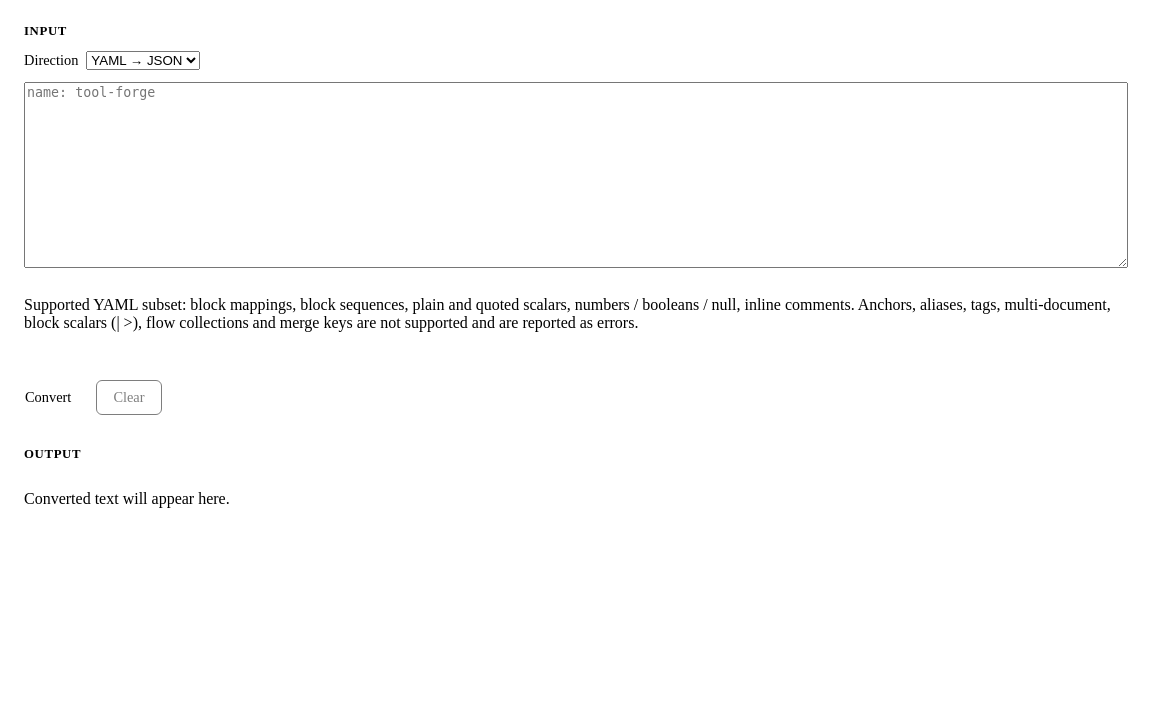
Test: YamlJsonConverterTool › shows an error for unsupported YAML syntax
Type "a: &anchor 1" into the text box named "YAML/JSON input" at point(576, 175), box [24,82,1128,268]
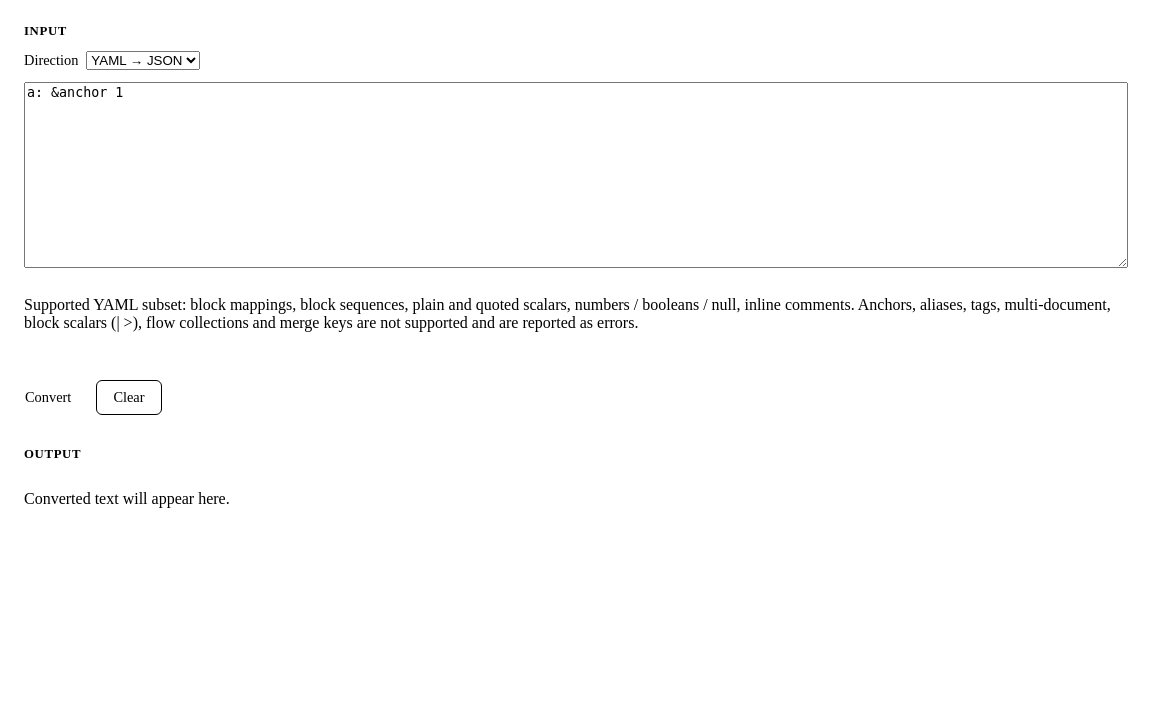
Click the button "Convert" at point(48, 398), box [8,380,88,415]
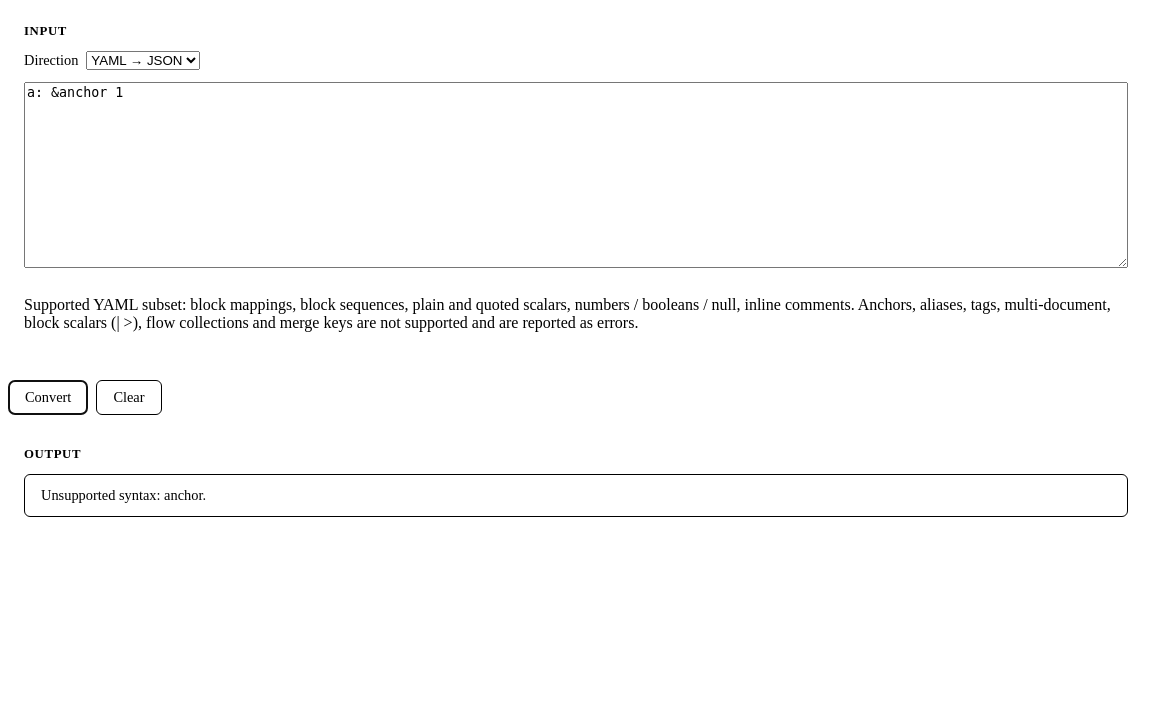
Result: the message shows "Unsupported syntax: anchor" at [41,487,206,503]
